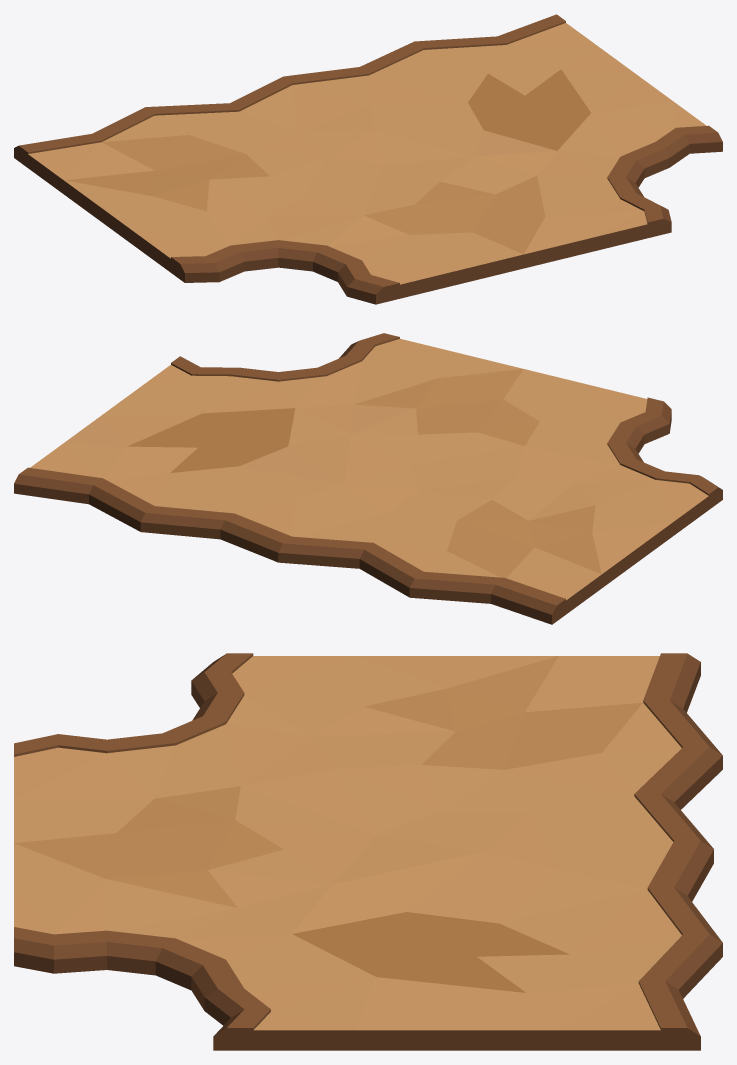
Rendered from FMS_Path_Dirt_T.fbx.
The picture shows the model from 3 angles, top to bottom: view 1: azimuth 30°, elevation 25°; view 2: azimuth 150°, elevation 25°; view 3: azimuth 270°, elevation 25°; orthographic projection. The views are drawn at different scales.
Visible parts, largest first — view 1: FMS_Path_Dirt_T; view 2: FMS_Path_Dirt_T; view 3: FMS_Path_Dirt_T.
Boxes of the visible parts, x1,y1,x2,y2 form: FMS_Path_Dirt_T: [14, 14, 722, 304]; FMS_Path_Dirt_T: [14, 333, 722, 624]; FMS_Path_Dirt_T: [14, 653, 722, 1050].
Size of the model in its own units: 2 by 0.056 by 1.6.
